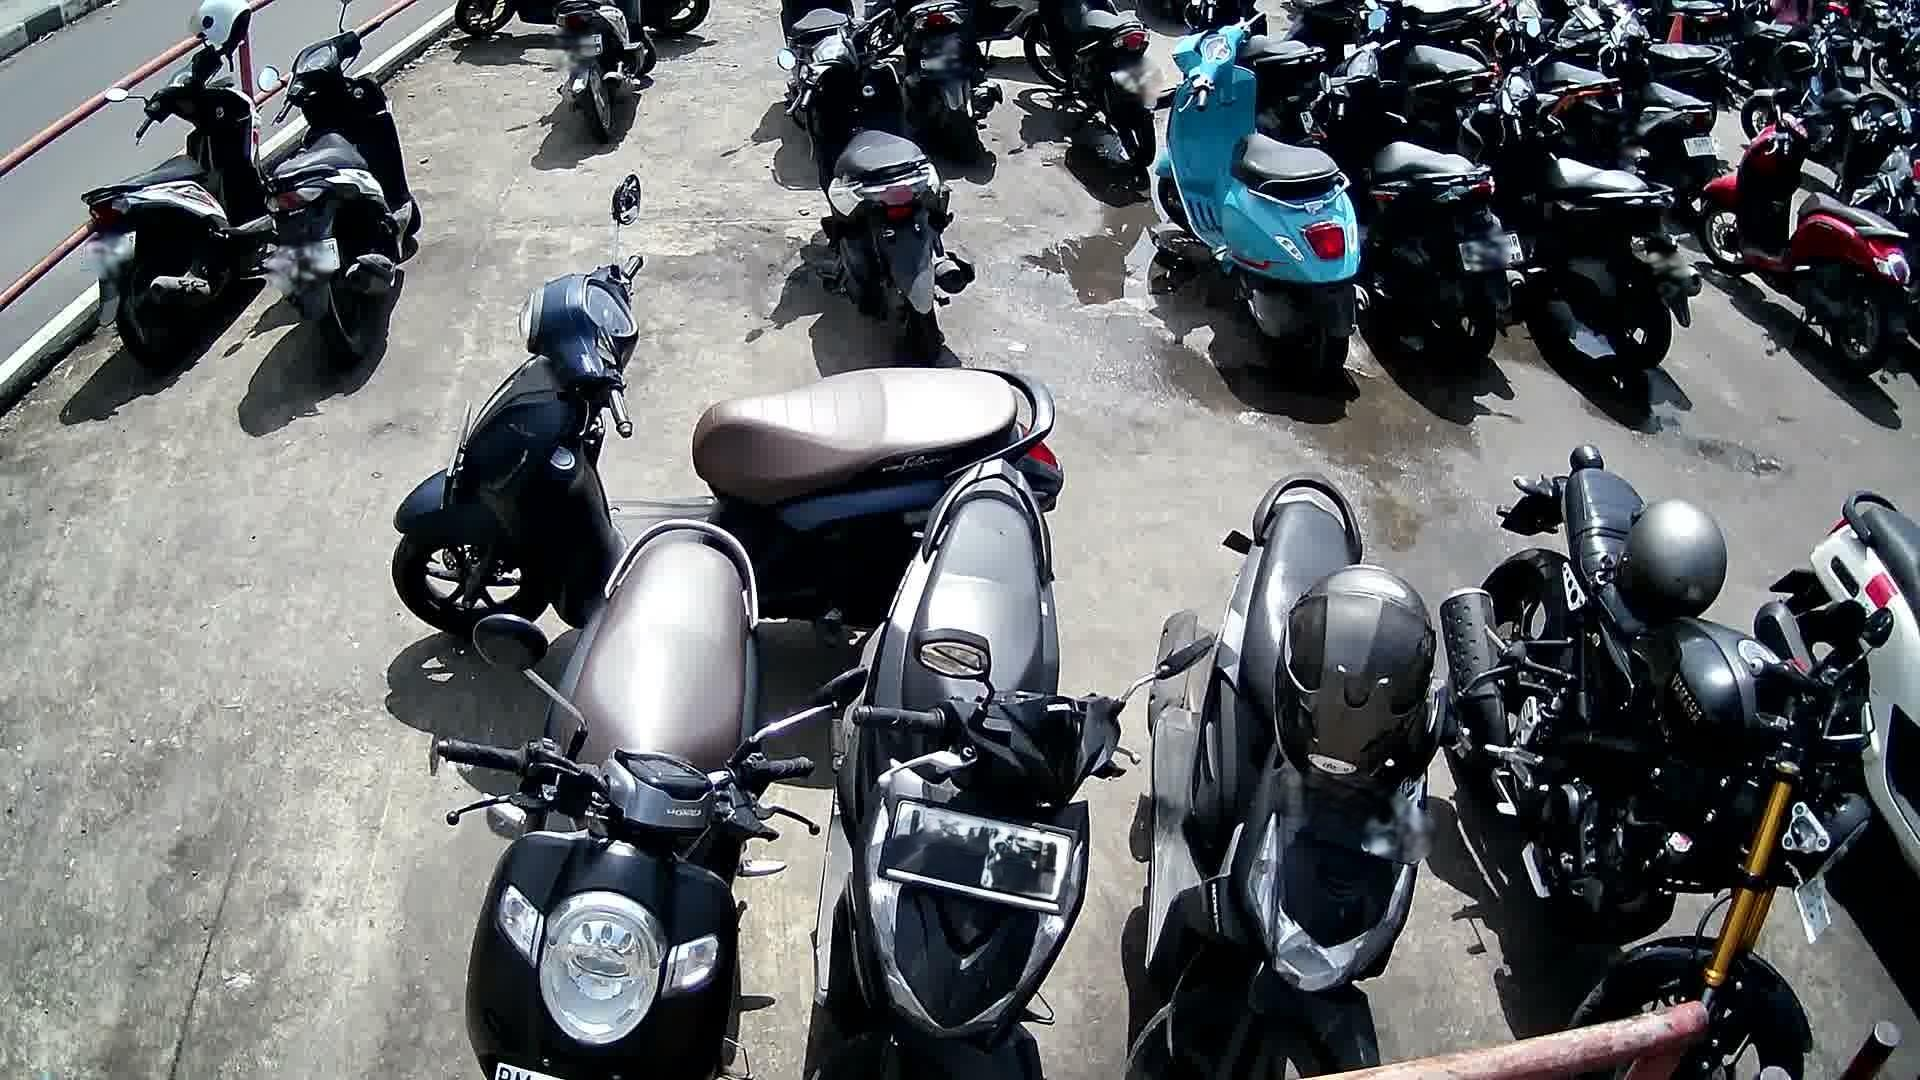motorcycle: (393, 170, 1062, 642), (1440, 442, 1892, 1080), (815, 456, 1218, 1080), (438, 522, 866, 1080), (1129, 475, 1523, 1080), (1460, 16, 1704, 375), (1291, 11, 1526, 367), (1151, 16, 1373, 390), (777, 5, 978, 360), (1756, 489, 1920, 887), (79, 38, 274, 372), (1702, 78, 1916, 376), (258, 0, 417, 364)
